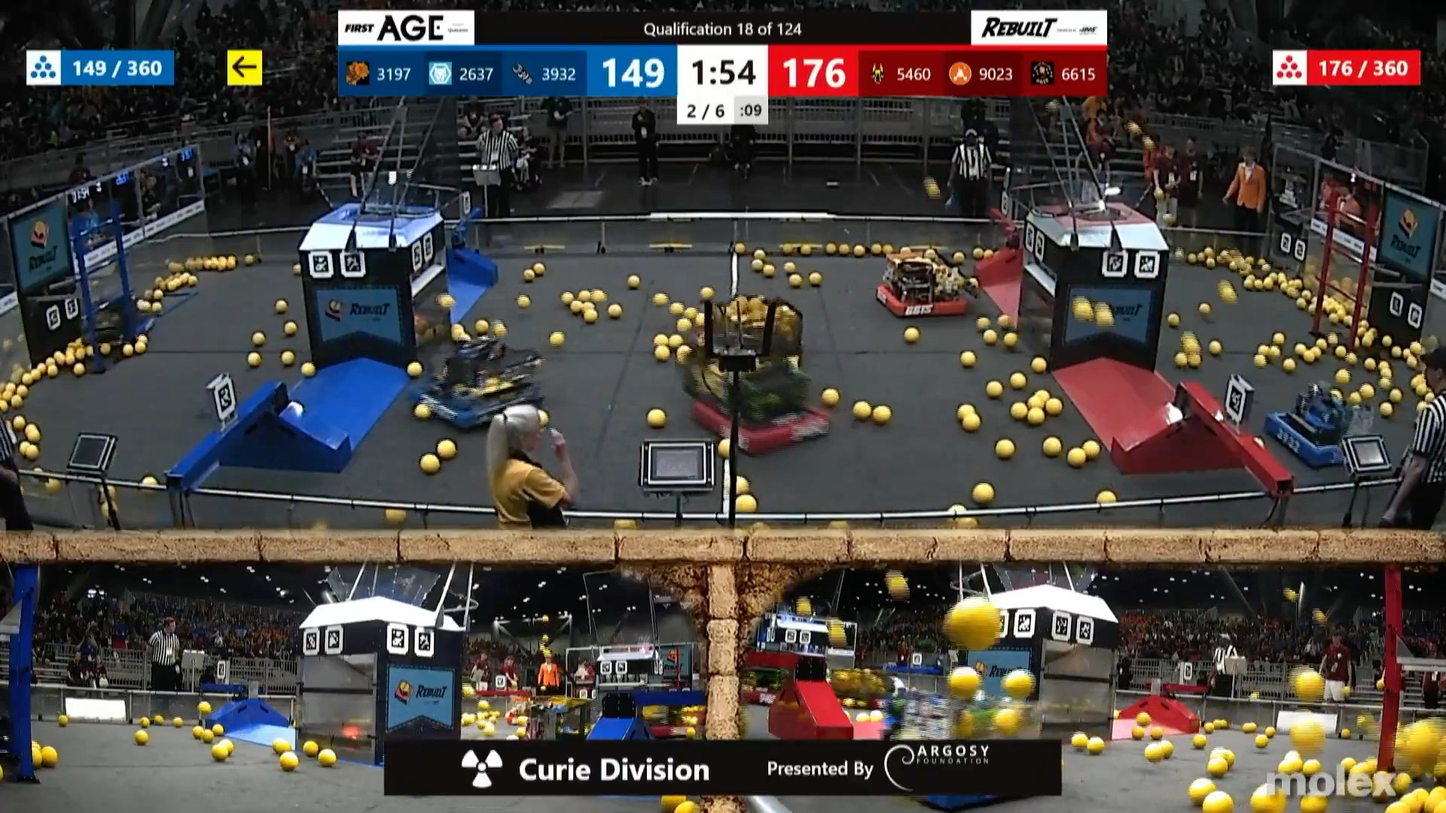bumpers: (683, 390, 836, 453), (1270, 403, 1384, 470), (409, 376, 541, 431), (865, 277, 981, 324)
